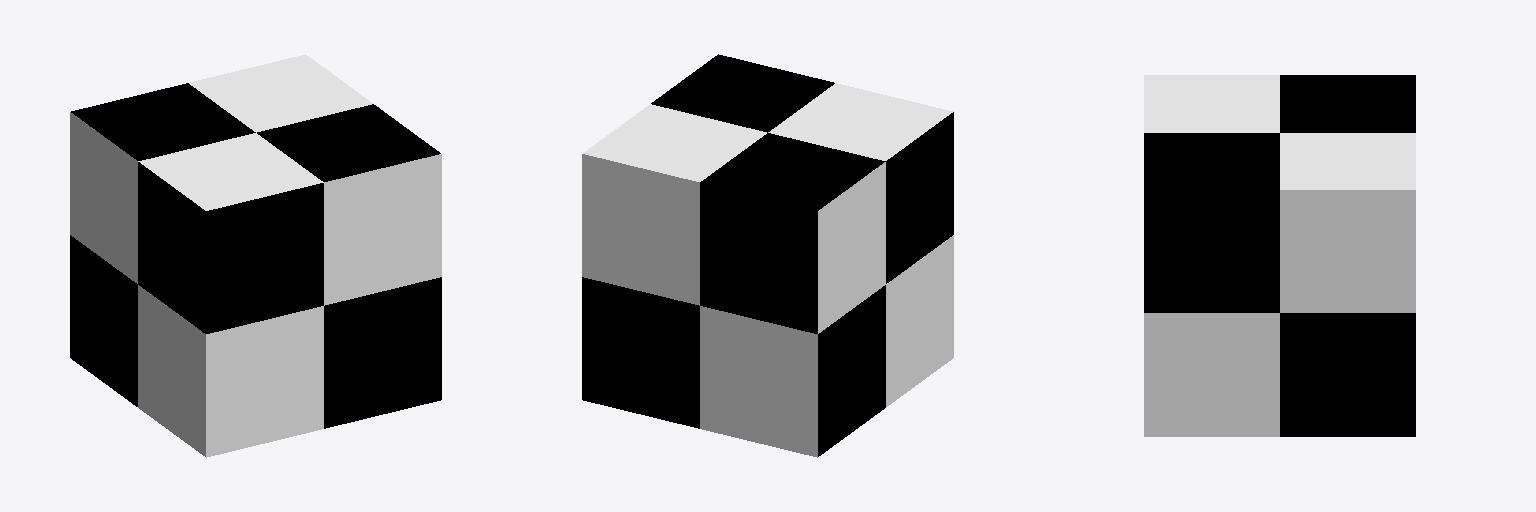
The picture shows the model from 3 angles: view 1: azimuth 30°, elevation 25°; view 2: azimuth 150°, elevation 25°; view 3: azimuth 270°, elevation 25°; orthographic projection.
Visible parts, largest first — view 1: Cube; view 2: Cube; view 3: Cube.
Part boxes in pixels (left/top/right/bottom): Cube: left=70, top=54, right=441, bottom=457; Cube: left=582, top=54, right=953, bottom=457; Cube: left=1144, top=75, right=1415, bottom=436.
Size of the model in its own units: 0.75 by 0.75 by 0.75.
Materials: 1 (1 with a texture image).